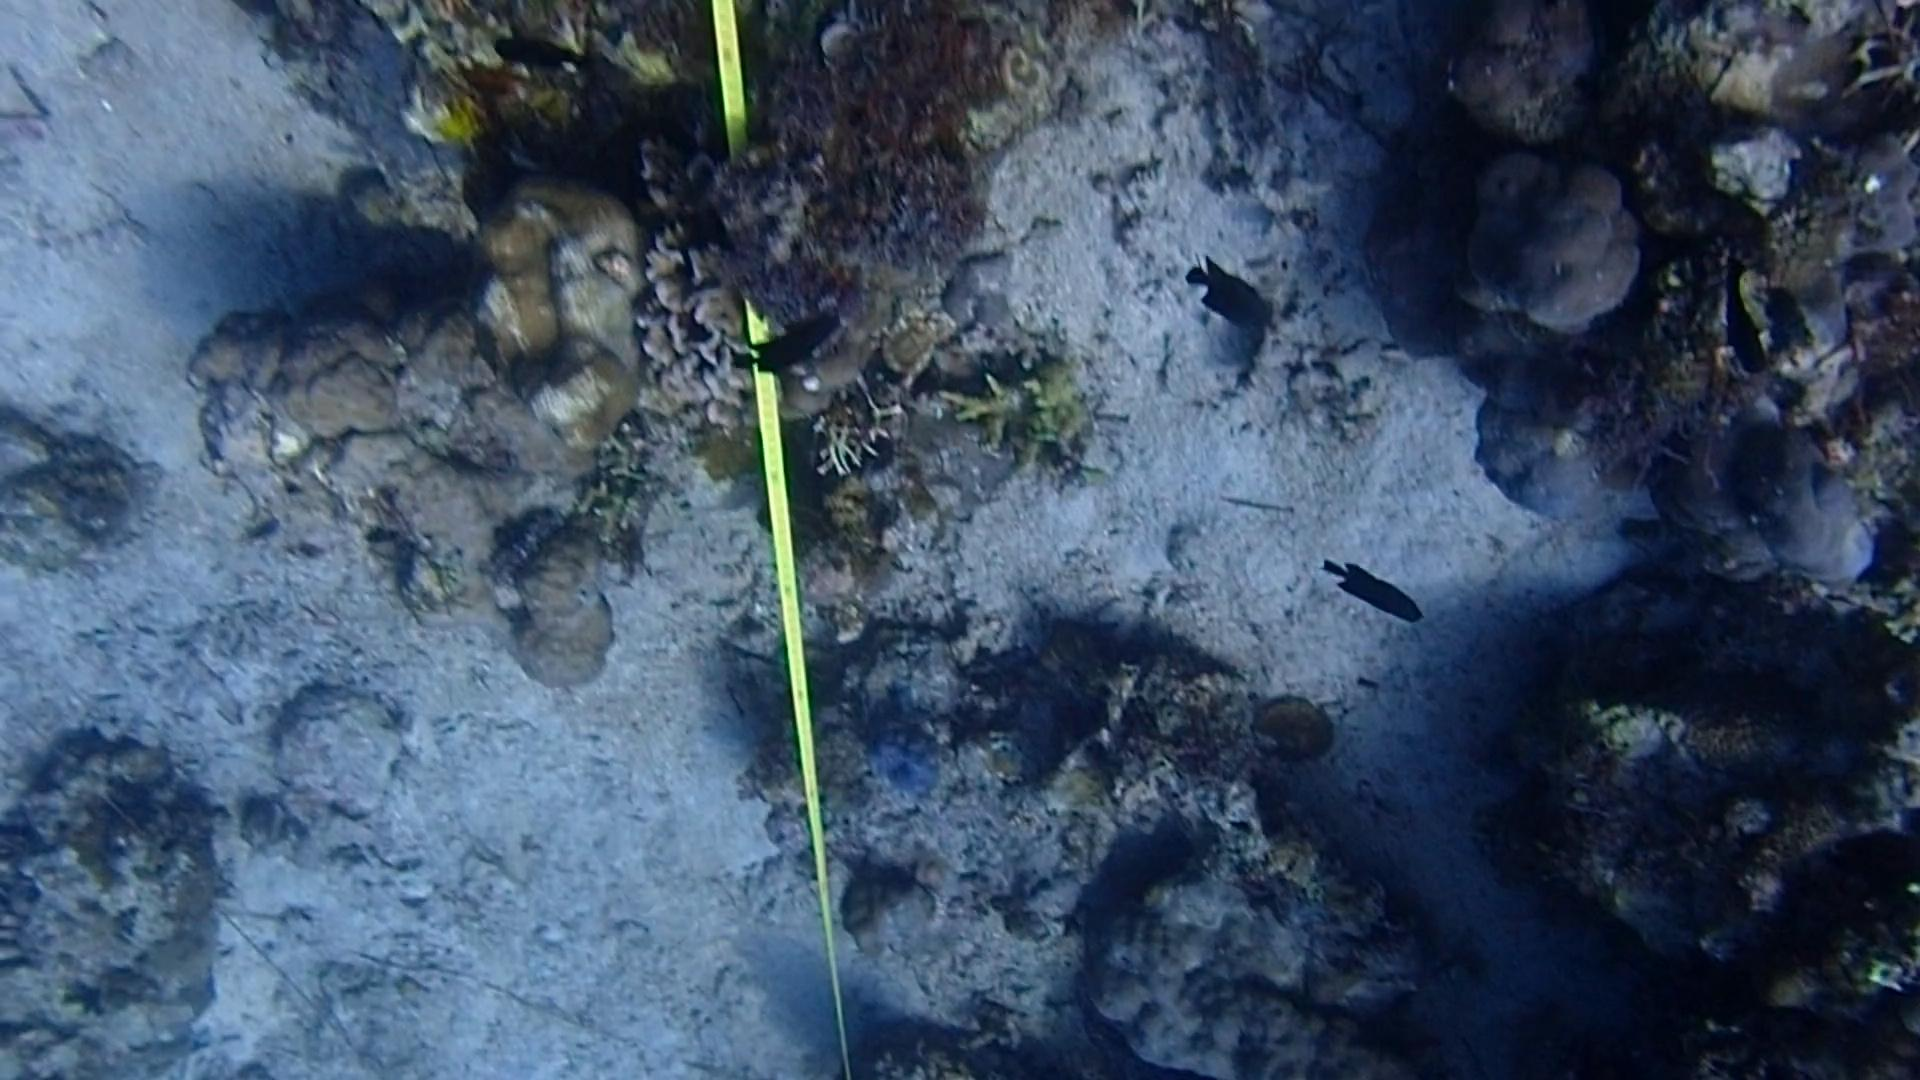Dark Fish: (1704, 265, 1807, 394), (1319, 538, 1432, 632), (1168, 255, 1287, 338), (485, 18, 597, 90), (740, 310, 855, 377)
Light Fish: (256, 800, 287, 860)
